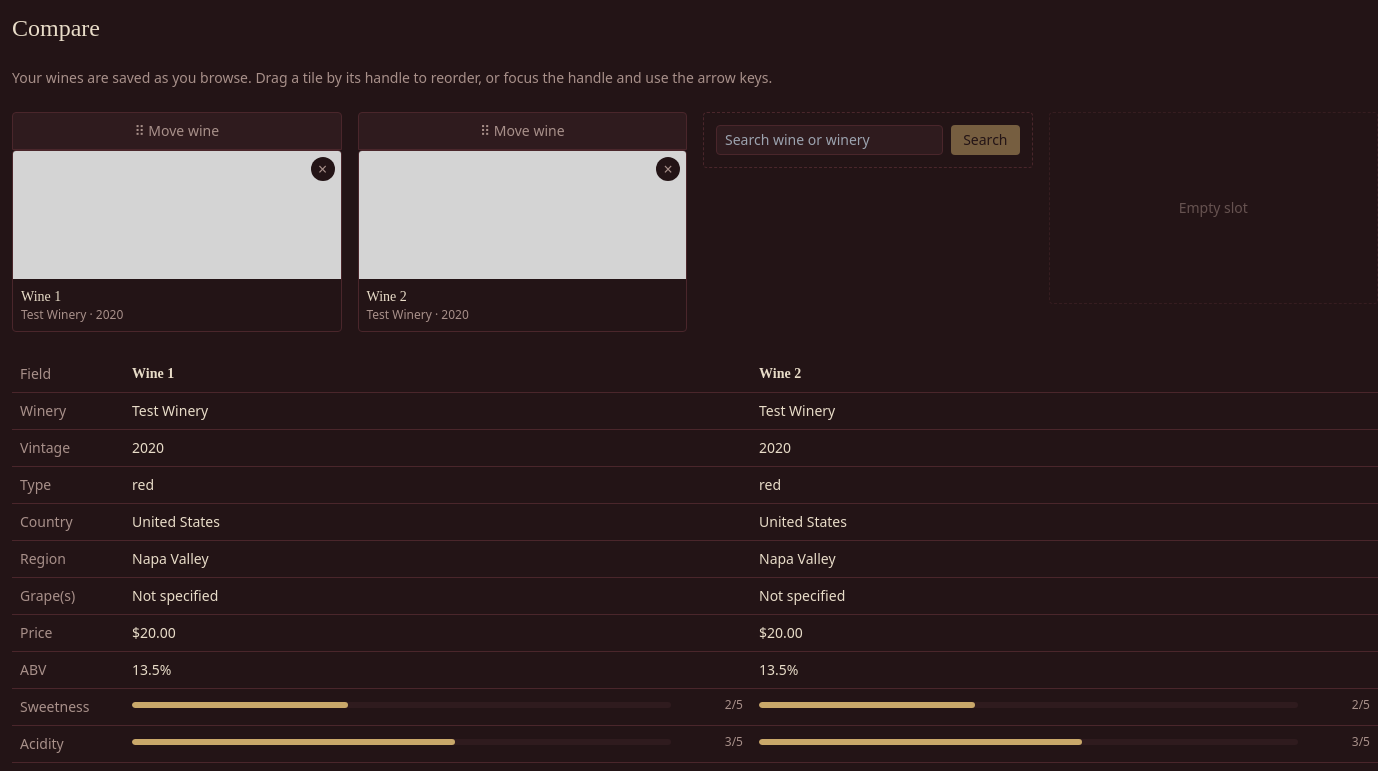
ComparePage › removing a wine drops it from the comparison
The width and height of the screenshot is (1378, 771).
Expected: the heading "Wine 1" is shown, [21,289,61,304]
Click the button named "Remove Wine 1" at (322, 169), box [310,157,334,181]
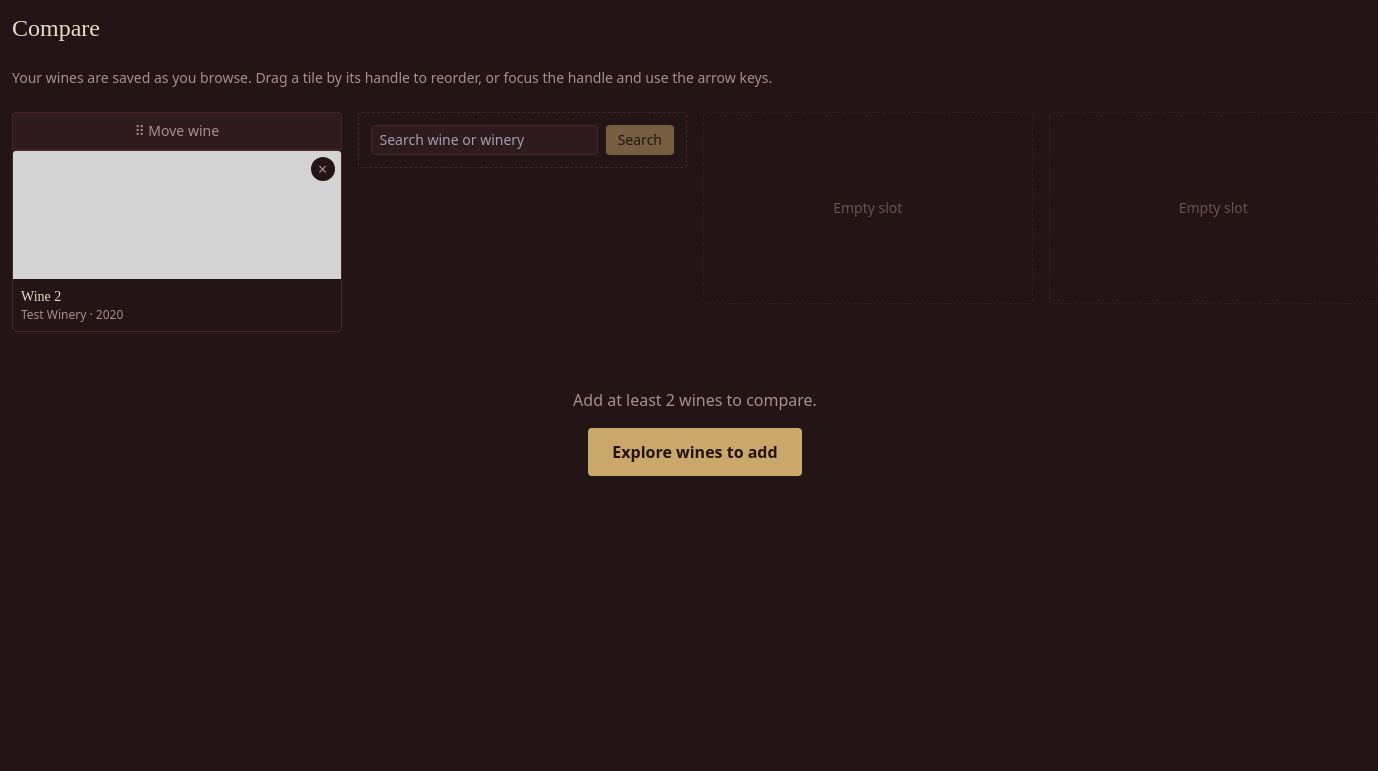
Expected: the text "Add at least 2 wines to compare." is shown, [573,388,817,412]
